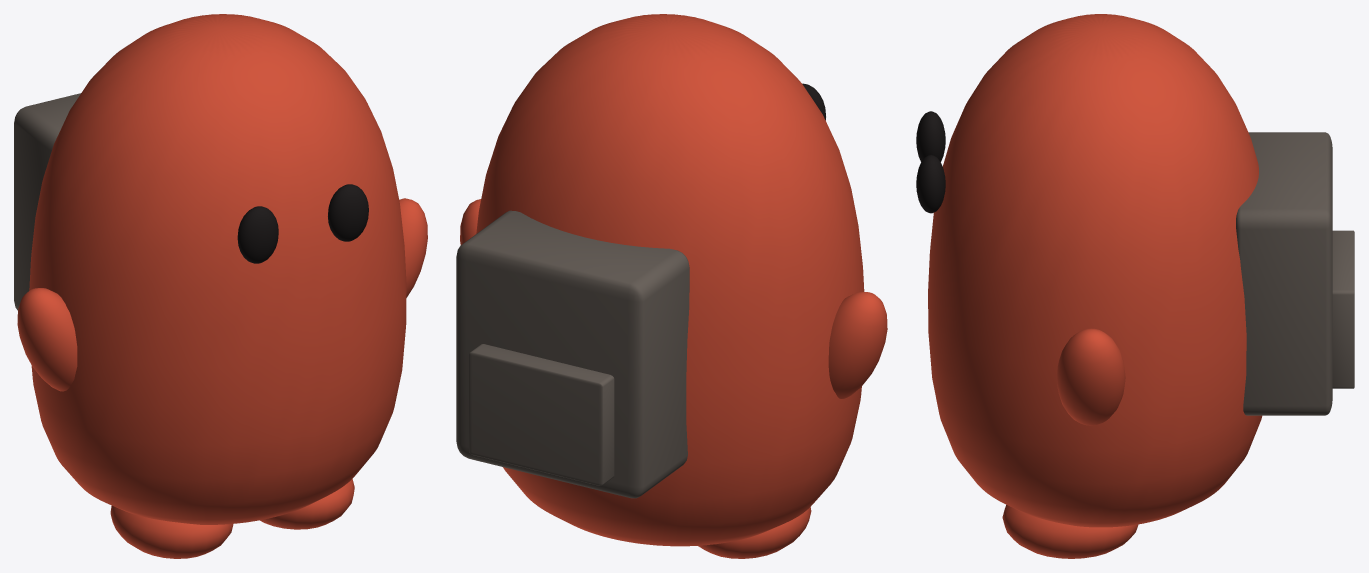
The model's file is hero.glb.
3 views of the same model, side by side, from view 1: azimuth 30°, elevation 25°; view 2: azimuth 150°, elevation 25°; view 3: azimuth 270°, elevation 25° (orthographic). The views are drawn at different scales.
Visible parts, largest first — view 1: Body, Pack, ArmL, FootL, FootR, EyeR, EyeL, ArmR; view 2: Body, Pack, ArmL, FootL, ArmR; view 3: Body, Pack, ArmR, FootR, EyeR, EyeL.
Part boxes in pixels (bbox=[...]): Body: bbox=[29, 14, 406, 524]; Pack: bbox=[14, 93, 80, 310]; ArmL: bbox=[17, 288, 77, 391]; FootL: bbox=[110, 505, 233, 558]; FootR: bbox=[260, 479, 354, 529]; EyeR: bbox=[328, 184, 368, 241]; EyeL: bbox=[237, 206, 278, 263]; ArmR: bbox=[399, 198, 427, 297]; Body: bbox=[476, 14, 864, 546]; Pack: bbox=[456, 210, 689, 498]; ArmL: bbox=[828, 291, 887, 398]; FootL: bbox=[698, 507, 811, 558]; ArmR: bbox=[460, 199, 480, 244]; Body: bbox=[928, 14, 1262, 527]; Pack: bbox=[1236, 132, 1354, 415]; ArmR: bbox=[1056, 328, 1125, 425]; FootR: bbox=[1002, 505, 1138, 558]; EyeR: bbox=[916, 155, 945, 213]; EyeL: bbox=[916, 111, 945, 161].
Size of the model in its own units: 0.9363 by 1.1 by 0.89.
